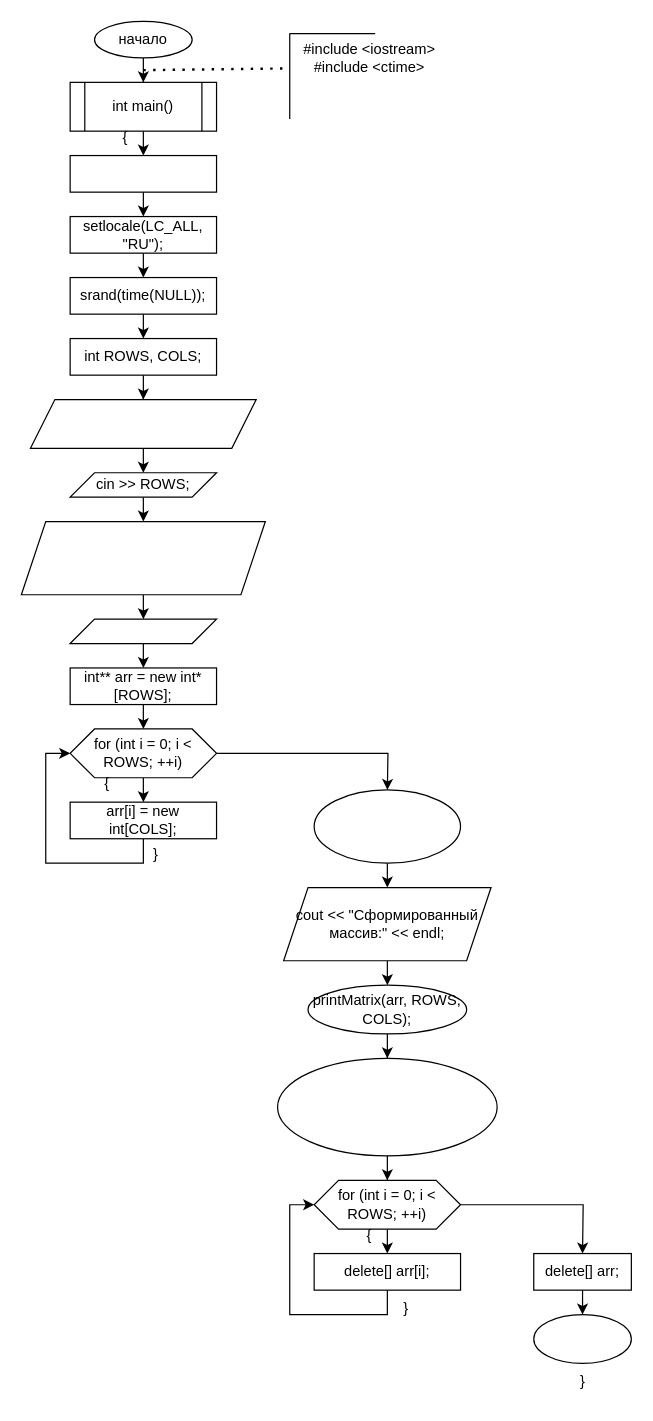
Image size: 653x1421. Some labels were removed from this diagram. The shapes that lost their labels are listed below. From the top down, each one's centre as x and y in pixels, then its label:
the point at 143,173: using namespace std;
the point at 142,423: cout << "Введите количество строк: ";
the point at 142,557: cout << "Введите количество столбцов: ";
the point at 143,631: cin >> COLS;
the point at 387,826: fillMatrix(arr, ROWS, COLS, 9);
the point at 386,1106: findSaddlePoints(arr, ROWS, COLS);
the point at 582,1338: return 0;
